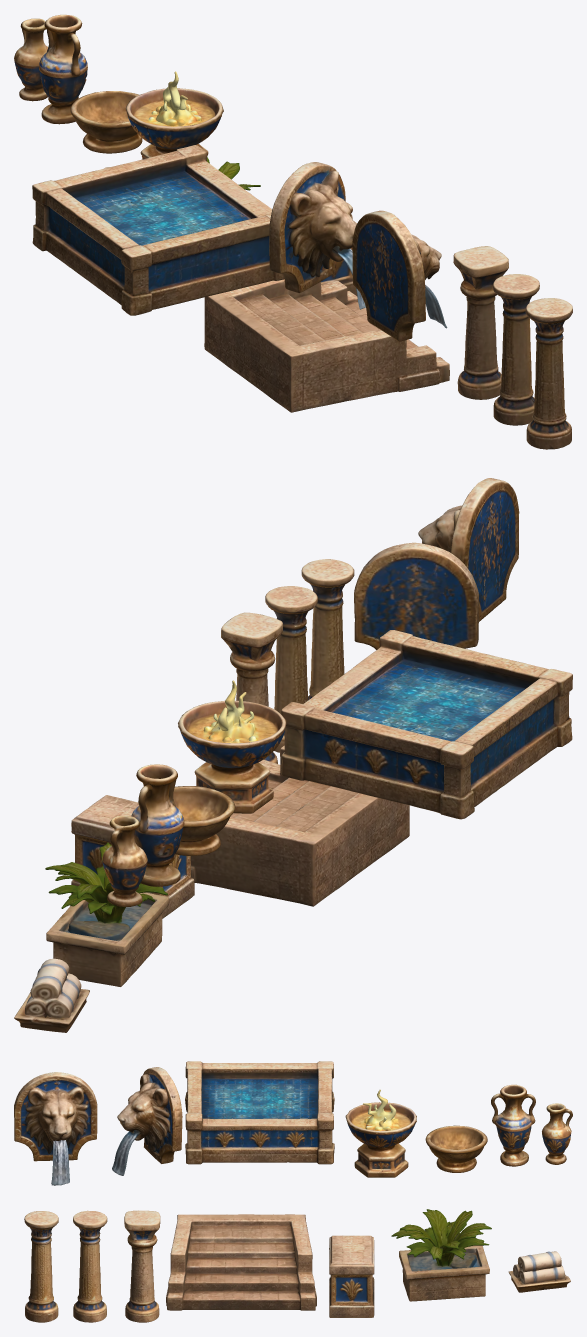
The model's file is اثاث التطهير.glb.
3 views of the same model, one above another, from view 1: azimuth 30°, elevation 25°; view 2: azimuth 150°, elevation 25°; view 3: azimuth 270°, elevation 25° (orthographic). The views are drawn at different scales.
Visible parts, largest first — view 1: world; view 2: world; view 3: world.
Boxes of the visible parts, left/top/right/bottom form: world: left=14, top=14, right=572, bottom=449; world: left=14, top=478, right=572, bottom=1032; world: left=14, top=1061, right=572, bottom=1322.
Bounding box in the file's own units: 0.5198 × 0.3712 × 0.9995.
1 material, 1 textured.
